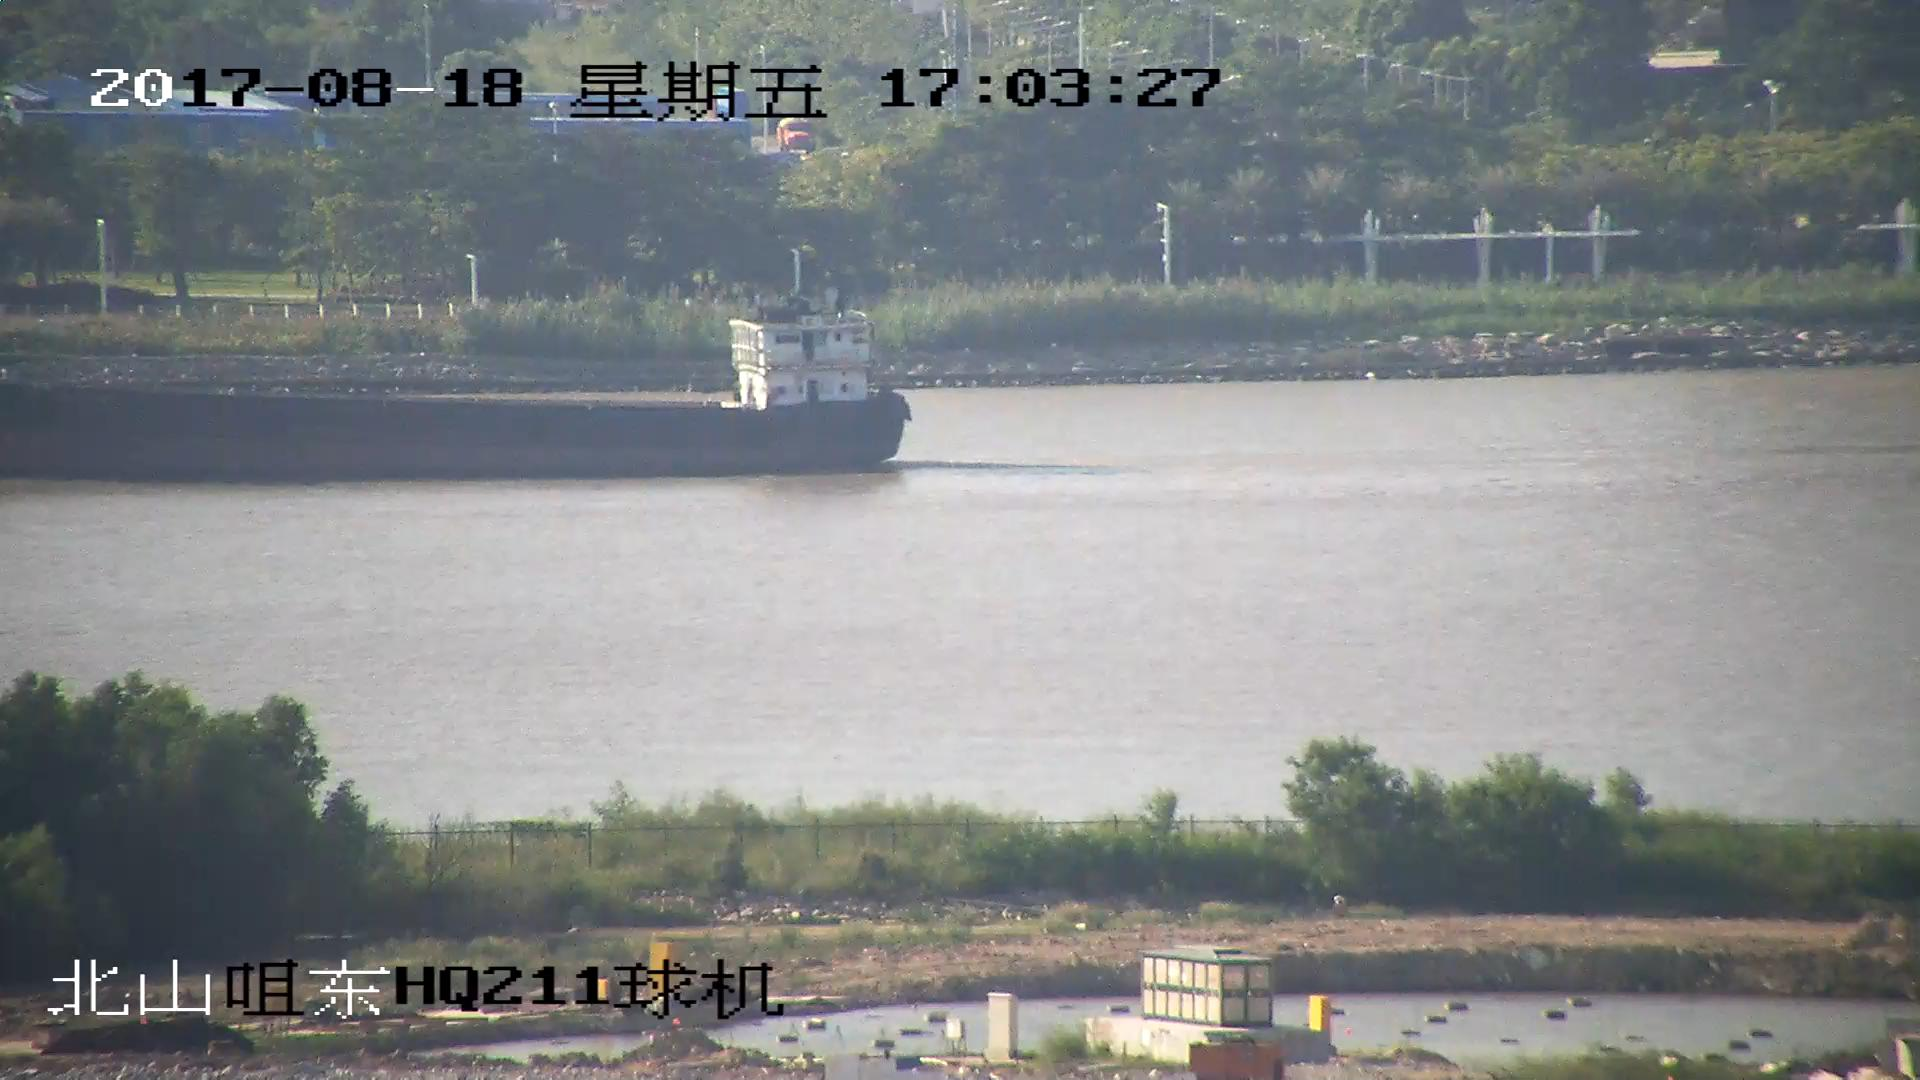general cargo ship: (1, 293, 908, 473)
